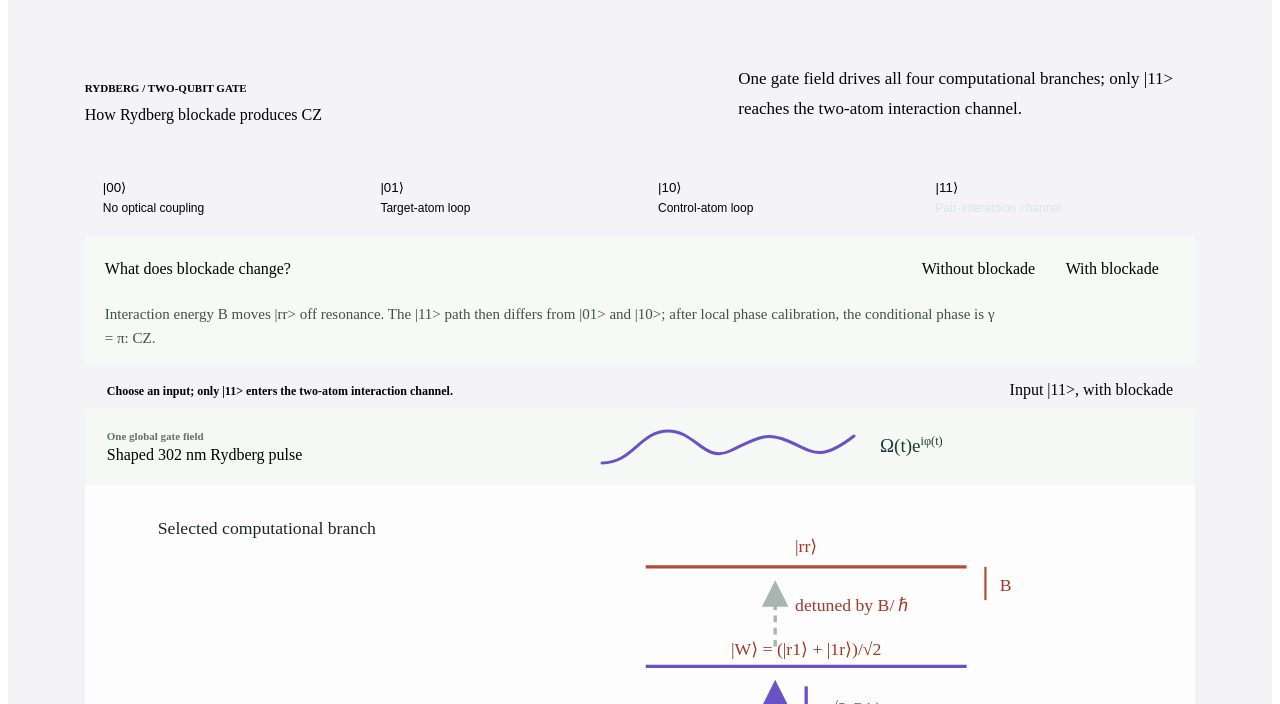
contrasts blocked and unblocked |11> pair-state dynamics
The width and height of the screenshot is (1280, 704).
Expected: the heading "How Rydberg blockade produces CZ" is shown, [85,106,322,122]
Expected: the heading "What does blockade change?" is shown, [105,260,291,278]
Step 1. Click the button "Without blockade" → (978, 268), box [908,250,1049,286]
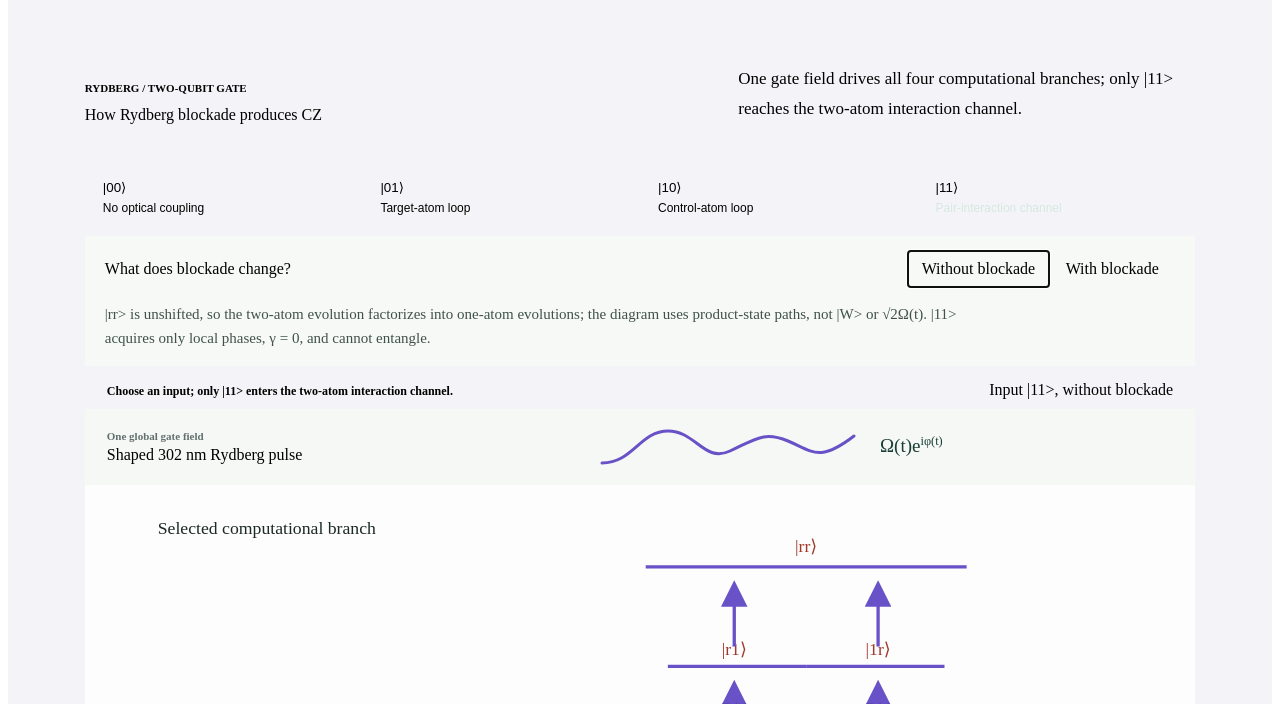
Expected: the text "two-atom evolution factorizes" is shown once, [85,302,1025,366]
Step 2. Click the button "|01⟩ Target-atom loop" → (425, 208), box [362,160,640,236]
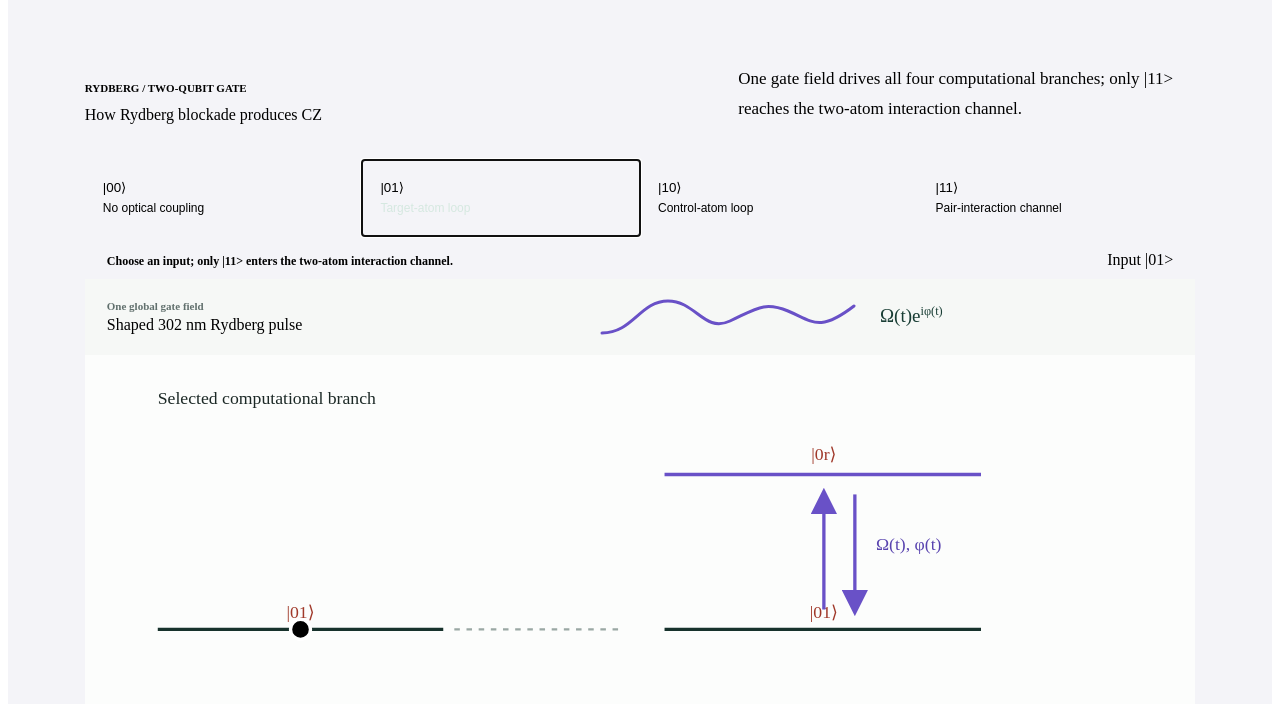
Now the button "|01⟩ Target-atom loop" is pressed, box [362,160,640,236]
Step 3. Click the button "|10⟩ Control-atom loop" → (706, 208), box [640,160,918,236]
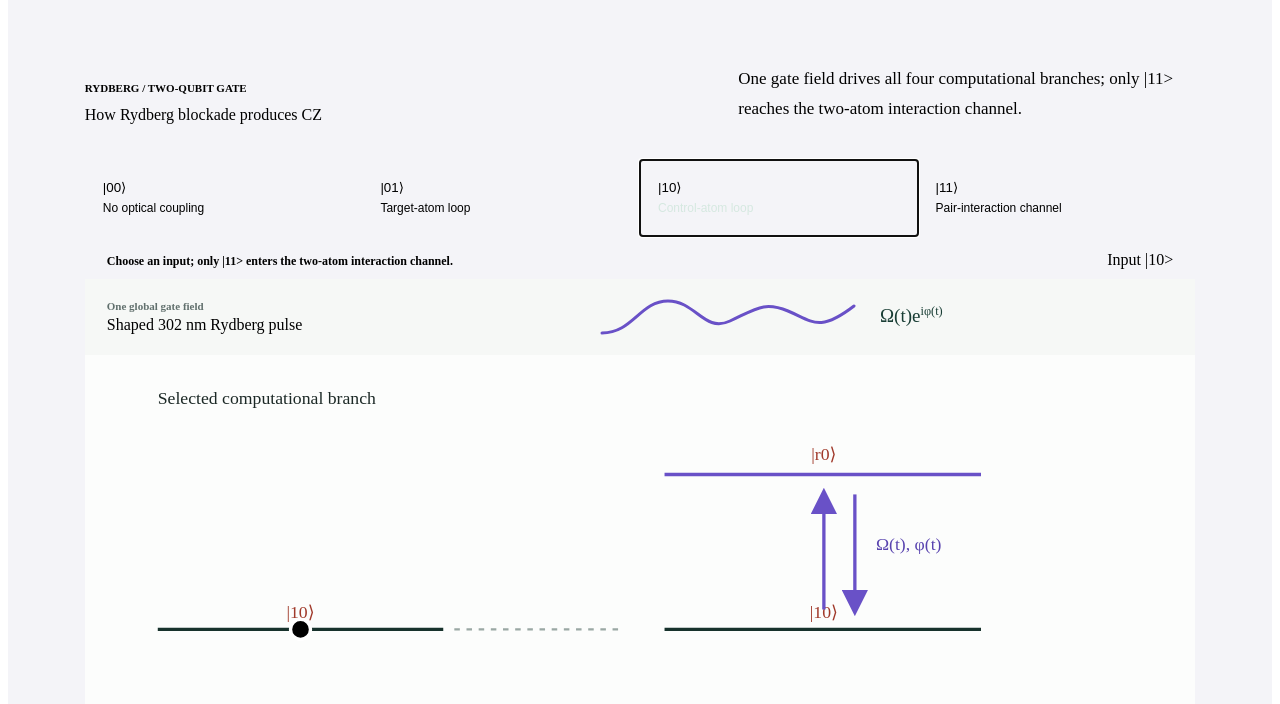
Step 4. Click the button "|00⟩ No optical coupling" → (154, 208), box [85,160,362,236]
(page scrolled)
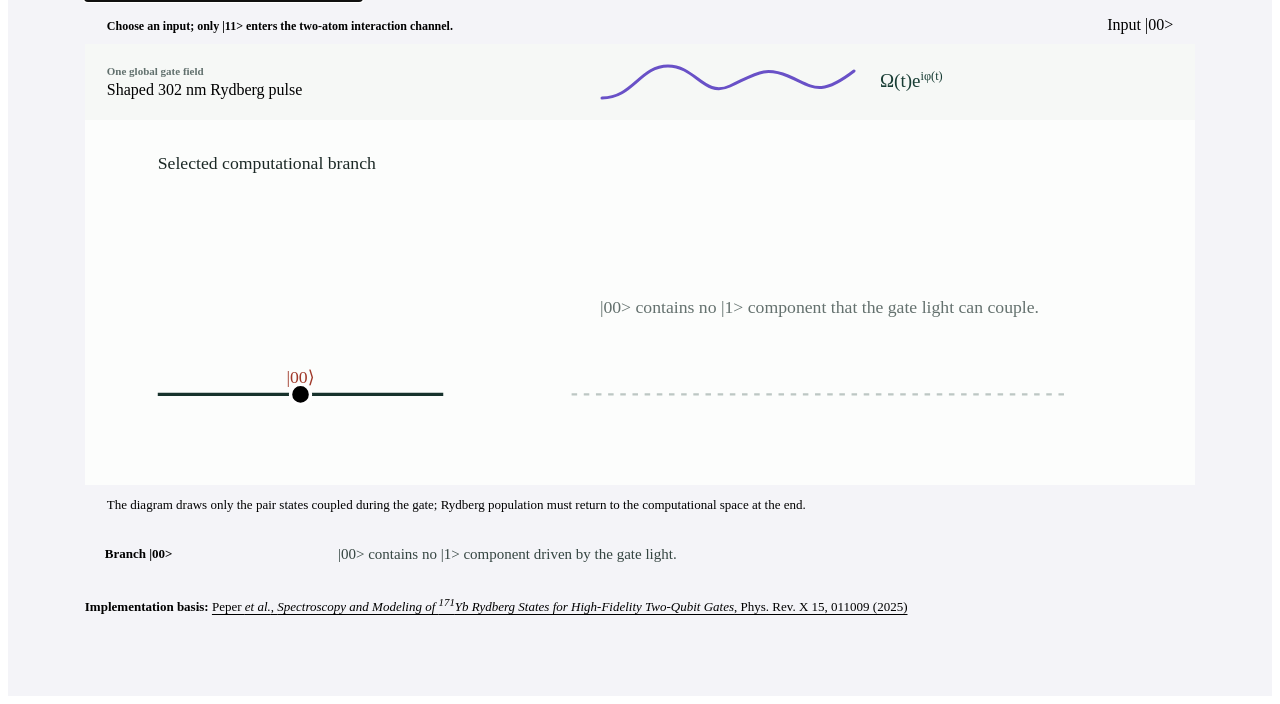
Expected: the picture named "Rydberg pair-state dynamics for input |00>" is shown, [85,120,1195,485]
Now the text "|00> contains no |1> component driven by the gate light." is shown, box [338,546,677,562]
